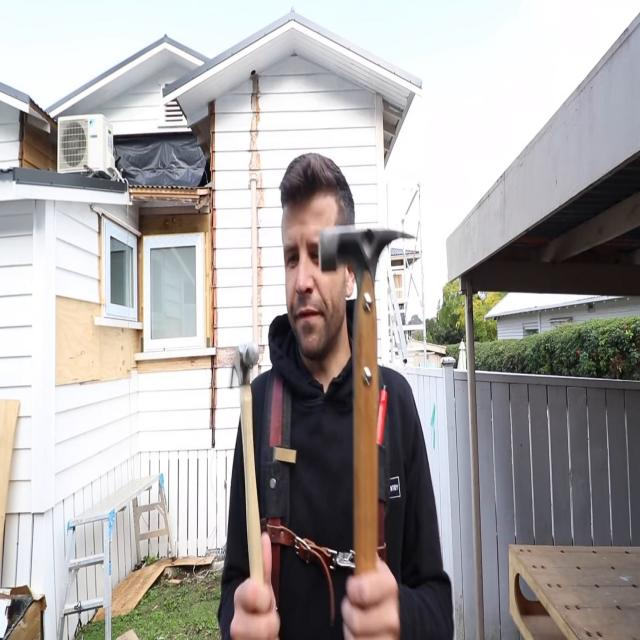hammer: (319, 227, 417, 607), (228, 348, 265, 600)
